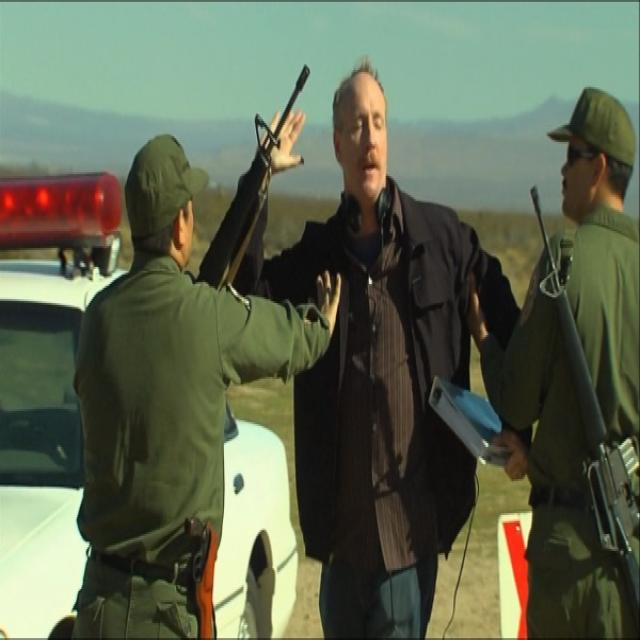rifle: (526, 177, 640, 640), (202, 59, 315, 282)
